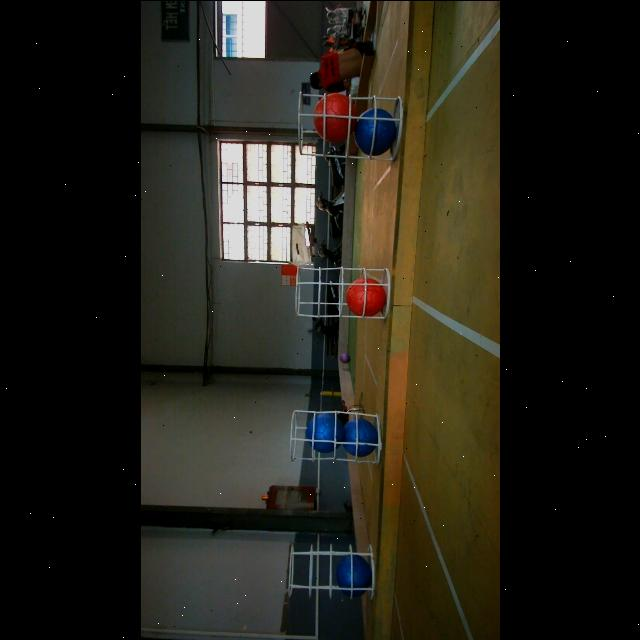B: (354, 108, 400, 156), (305, 411, 343, 453), (336, 554, 370, 596), (344, 416, 376, 456)
R: (310, 94, 356, 142), (345, 276, 385, 316)
